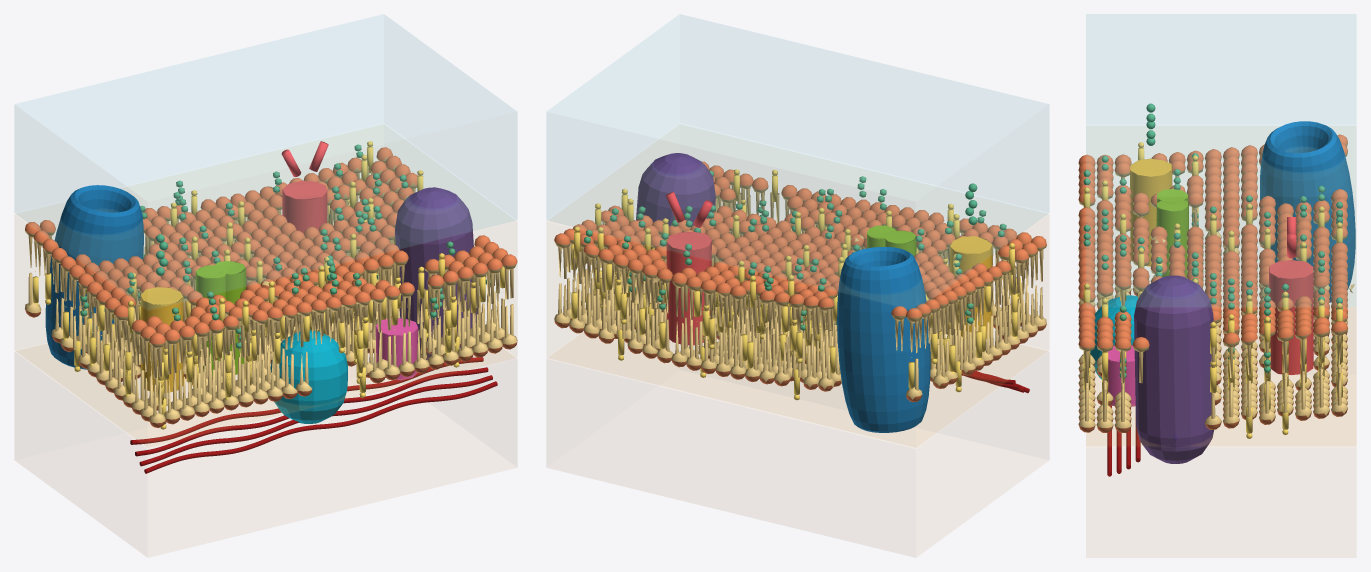
Rendered from membrane.glb.
3 renders of one model, left to right at view 1: azimuth 30°, elevation 25°; view 2: azimuth 150°, elevation 25°; view 3: azimuth 270°, elevation 25°, orthographic.
Parts seen in each view (by area): view 1: cz-ecf, cz-cytoplasm, cz-heads, cz-tails, cz-cholesterol, cz-channels, cz-microfilaments, cz-integral, cz-enzymes, cz-glycolipids, cz-receptor, cz-recognition (+2 smaller); view 2: cz-ecf, cz-cytoplasm, cz-tails, cz-heads, cz-channels, cz-cholesterol, cz-integral, cz-glycolipids, cz-receptor, cz-recognition, cz-carrier; view 3: cz-ecf, cz-cytoplasm, cz-heads, cz-tails, cz-integral, cz-channels, cz-cholesterol, cz-receptor, cz-glycolipids, cz-recognition, cz-carrier, cz-anchoring (+2 smaller).
Boxes of the visible parts, bbox=[...] form: cz-ecf: bbox=[15, 14, 516, 309]; cz-cytoplasm: bbox=[15, 344, 516, 556]; cz-heads: bbox=[25, 147, 517, 427]; cz-tails: bbox=[25, 157, 517, 423]; cz-cholesterol: bbox=[32, 141, 504, 429]; cz-channels: bbox=[45, 185, 143, 369]; cz-microfilaments: bbox=[130, 357, 497, 473]; cz-integral: bbox=[395, 187, 477, 359]; cz-enzymes: bbox=[270, 330, 347, 423]; cz-glycolipids: bbox=[80, 144, 494, 348]; cz-receptor: bbox=[281, 141, 328, 233]; cz-recognition: bbox=[140, 234, 183, 392]; cz-ecf: bbox=[547, 14, 1048, 309]; cz-cytoplasm: bbox=[547, 332, 1048, 557]; cz-tails: bbox=[554, 176, 1046, 399]; cz-heads: bbox=[554, 161, 1046, 402]; cz-channels: bbox=[837, 247, 930, 432]; cz-cholesterol: bbox=[571, 169, 1020, 400]; cz-integral: bbox=[636, 153, 715, 304]; cz-glycolipids: bbox=[584, 170, 1006, 330]; cz-receptor: bbox=[666, 192, 712, 345]; cz-recognition: bbox=[950, 183, 992, 339]; cz-carrier: bbox=[866, 225, 916, 255]; cz-ecf: bbox=[1086, 14, 1355, 306]; cz-cytoplasm: bbox=[1086, 308, 1355, 557]; cz-heads: bbox=[1078, 134, 1347, 432]; cz-tails: bbox=[1078, 143, 1354, 428]; cz-integral: bbox=[1134, 275, 1213, 463]; cz-channels: bbox=[1260, 121, 1355, 302]; cz-cholesterol: bbox=[1083, 142, 1342, 438]; cz-receptor: bbox=[1269, 217, 1313, 375]; cz-glycolipids: bbox=[1083, 153, 1342, 378]; cz-recognition: bbox=[1130, 103, 1172, 266]; cz-carrier: bbox=[1156, 189, 1188, 278]; cz-anchoring: bbox=[1108, 345, 1135, 406].
Bounding box in the file's own units: 16.02 × 14.73 × 10.28.
